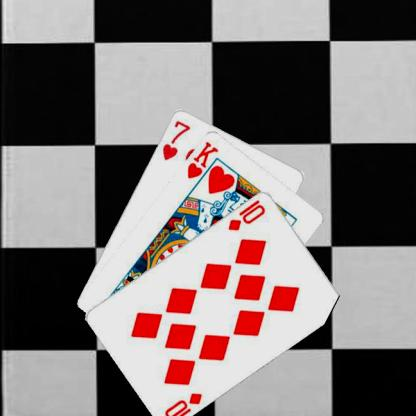10D: (226, 196, 266, 232), (161, 389, 203, 416)
7H: (159, 117, 192, 162)
KH: (184, 138, 220, 180)
